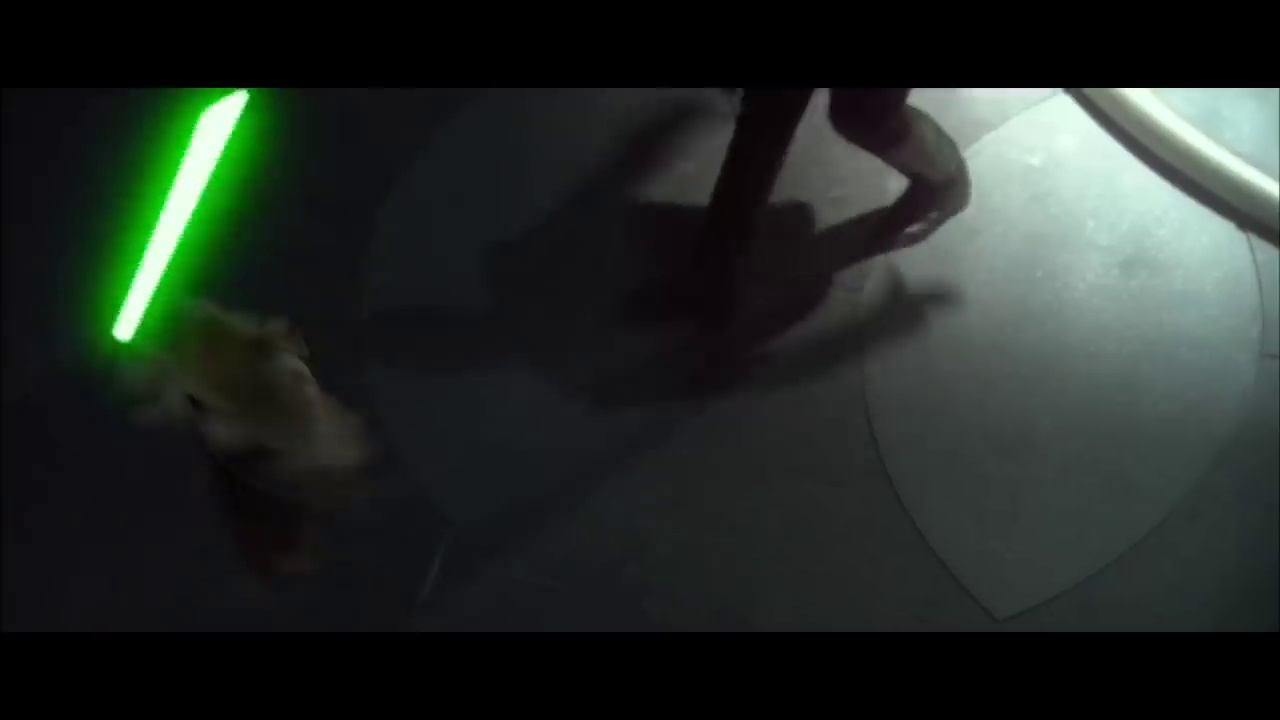lightsaber: (115, 85, 253, 364)
